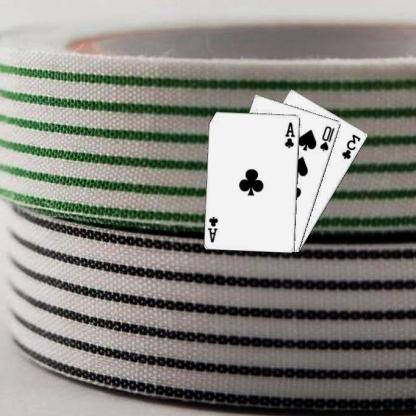10S: (319, 123, 338, 152)
3C: (341, 131, 364, 161)
AC: (284, 119, 298, 149), (208, 214, 222, 244)
